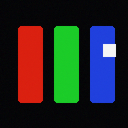1 square: (103, 44, 115, 56)
